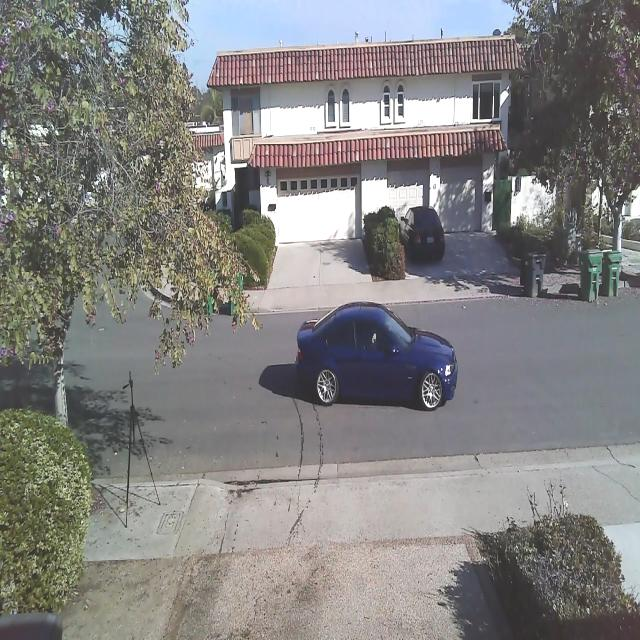Carbeetle: (291, 294, 461, 431)
Civilian: (399, 205, 446, 264)
